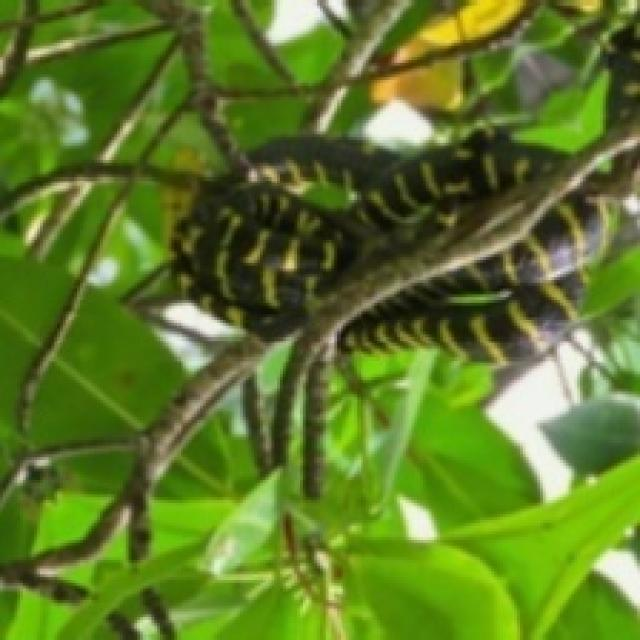mangrove cat snake: (172, 132, 549, 338), (339, 195, 592, 366)
